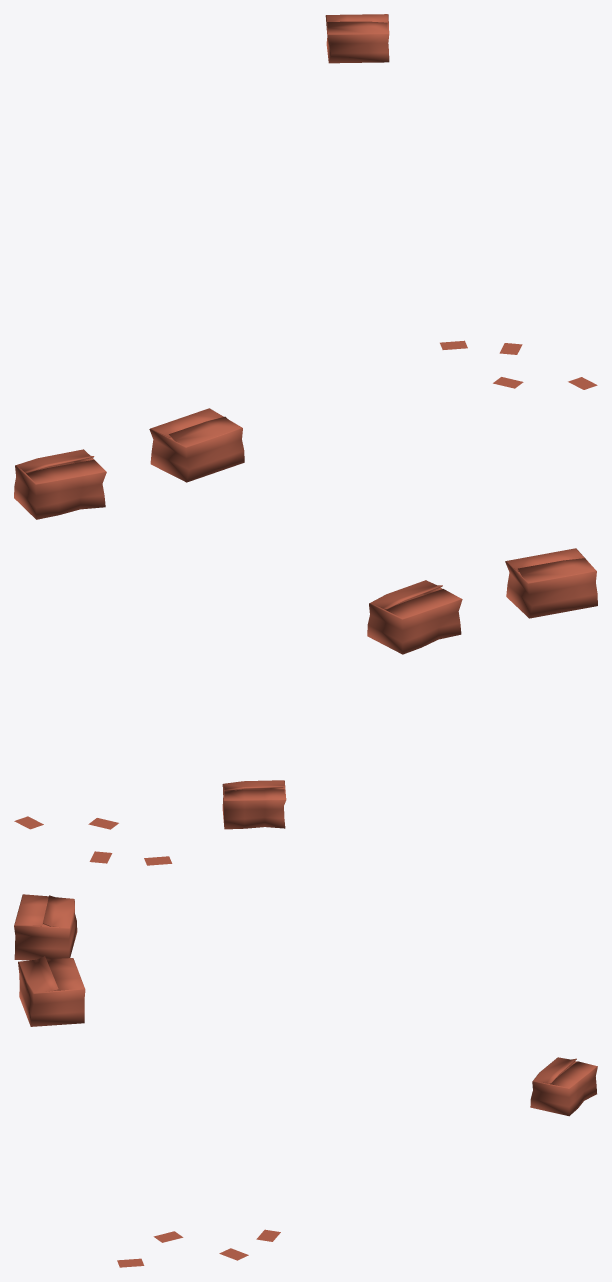
File: Paper2.fbx
The picture shows the model from 3 angles, top to bottom: view 1: azimuth 30°, elevation 25°; view 2: azimuth 210°, elevation 25°; view 3: azimuth 270°, elevation 25°; orthographic projection. The views are drawn at different scales.
Visible parts, largest first — view 1: polySurface39, polySurface40, polySurface41; view 2: polySurface39, polySurface40, polySurface41; view 3: polySurface39, polySurface40, polySurface41.
Part boxes in pixels (x1=…): polySurface39: x1=149, y1=408, x2=244, y2=482; polySurface40: x1=14, y1=449, x2=106, y2=519; polySurface41: x1=325, y1=14, x2=389, y2=63; polySurface39: x1=367, y1=580, x2=462, y2=654; polySurface40: x1=505, y1=548, x2=597, y2=618; polySurface41: x1=222, y1=780, x2=286, y2=829; polySurface39: x1=18, y1=956, x2=85, y2=1026; polySurface40: x1=14, y1=894, x2=77, y2=960; polySurface41: x1=530, y1=1057, x2=597, y2=1116.
Size of the model in its own units: 1208 by 362 by 993.
